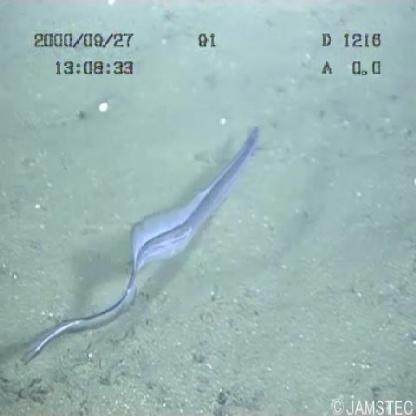Bio: (27, 119, 262, 362)
